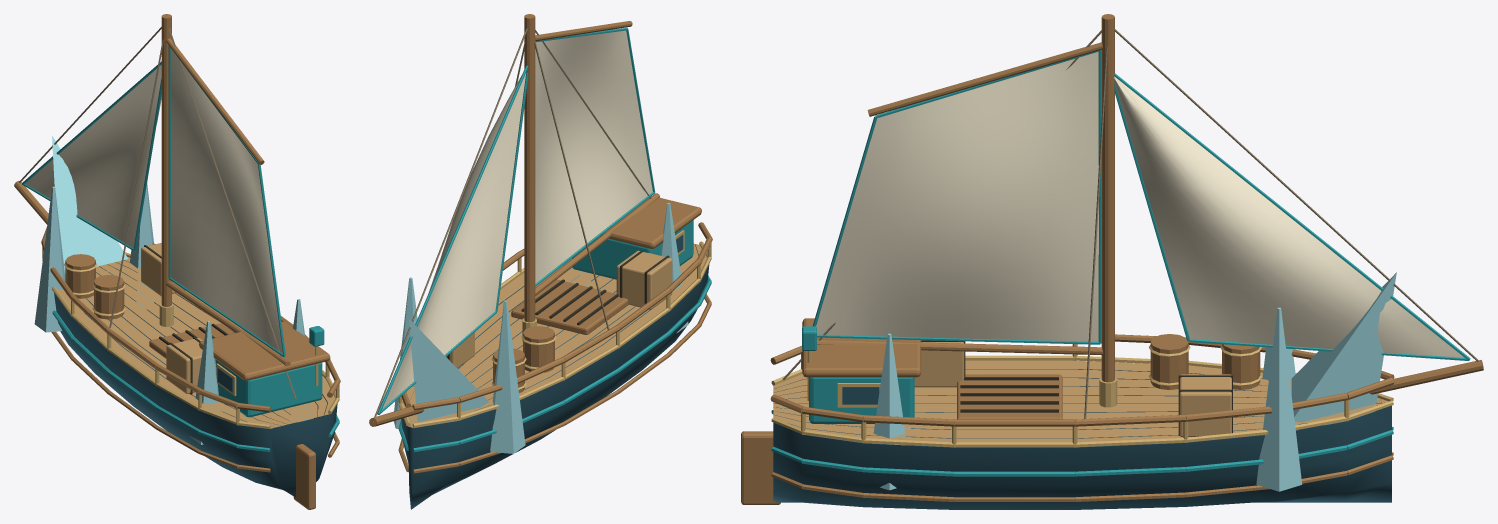
Rendered from ship_sloop.glb.
3 views of the same model, side by side, from view 1: azimuth 30°, elevation 25°; view 2: azimuth 150°, elevation 25°; view 3: azimuth 270°, elevation 25° (orthographic). The views are drawn at different scales.
Visible parts, largest first — view 1: Sloop curved hull; view 2: Sloop curved hull; view 3: Sloop curved hull.
Part boxes in pixels (x1=…): Sloop curved hull: x1=14, y1=14, x2=340, y2=509; Sloop curved hull: x1=369, y1=14, x2=712, y2=509; Sloop curved hull: x1=741, y1=14, x2=1483, y2=509.
Bounding box in the file's own units: 2.12 × 5.34 × 7.38.
